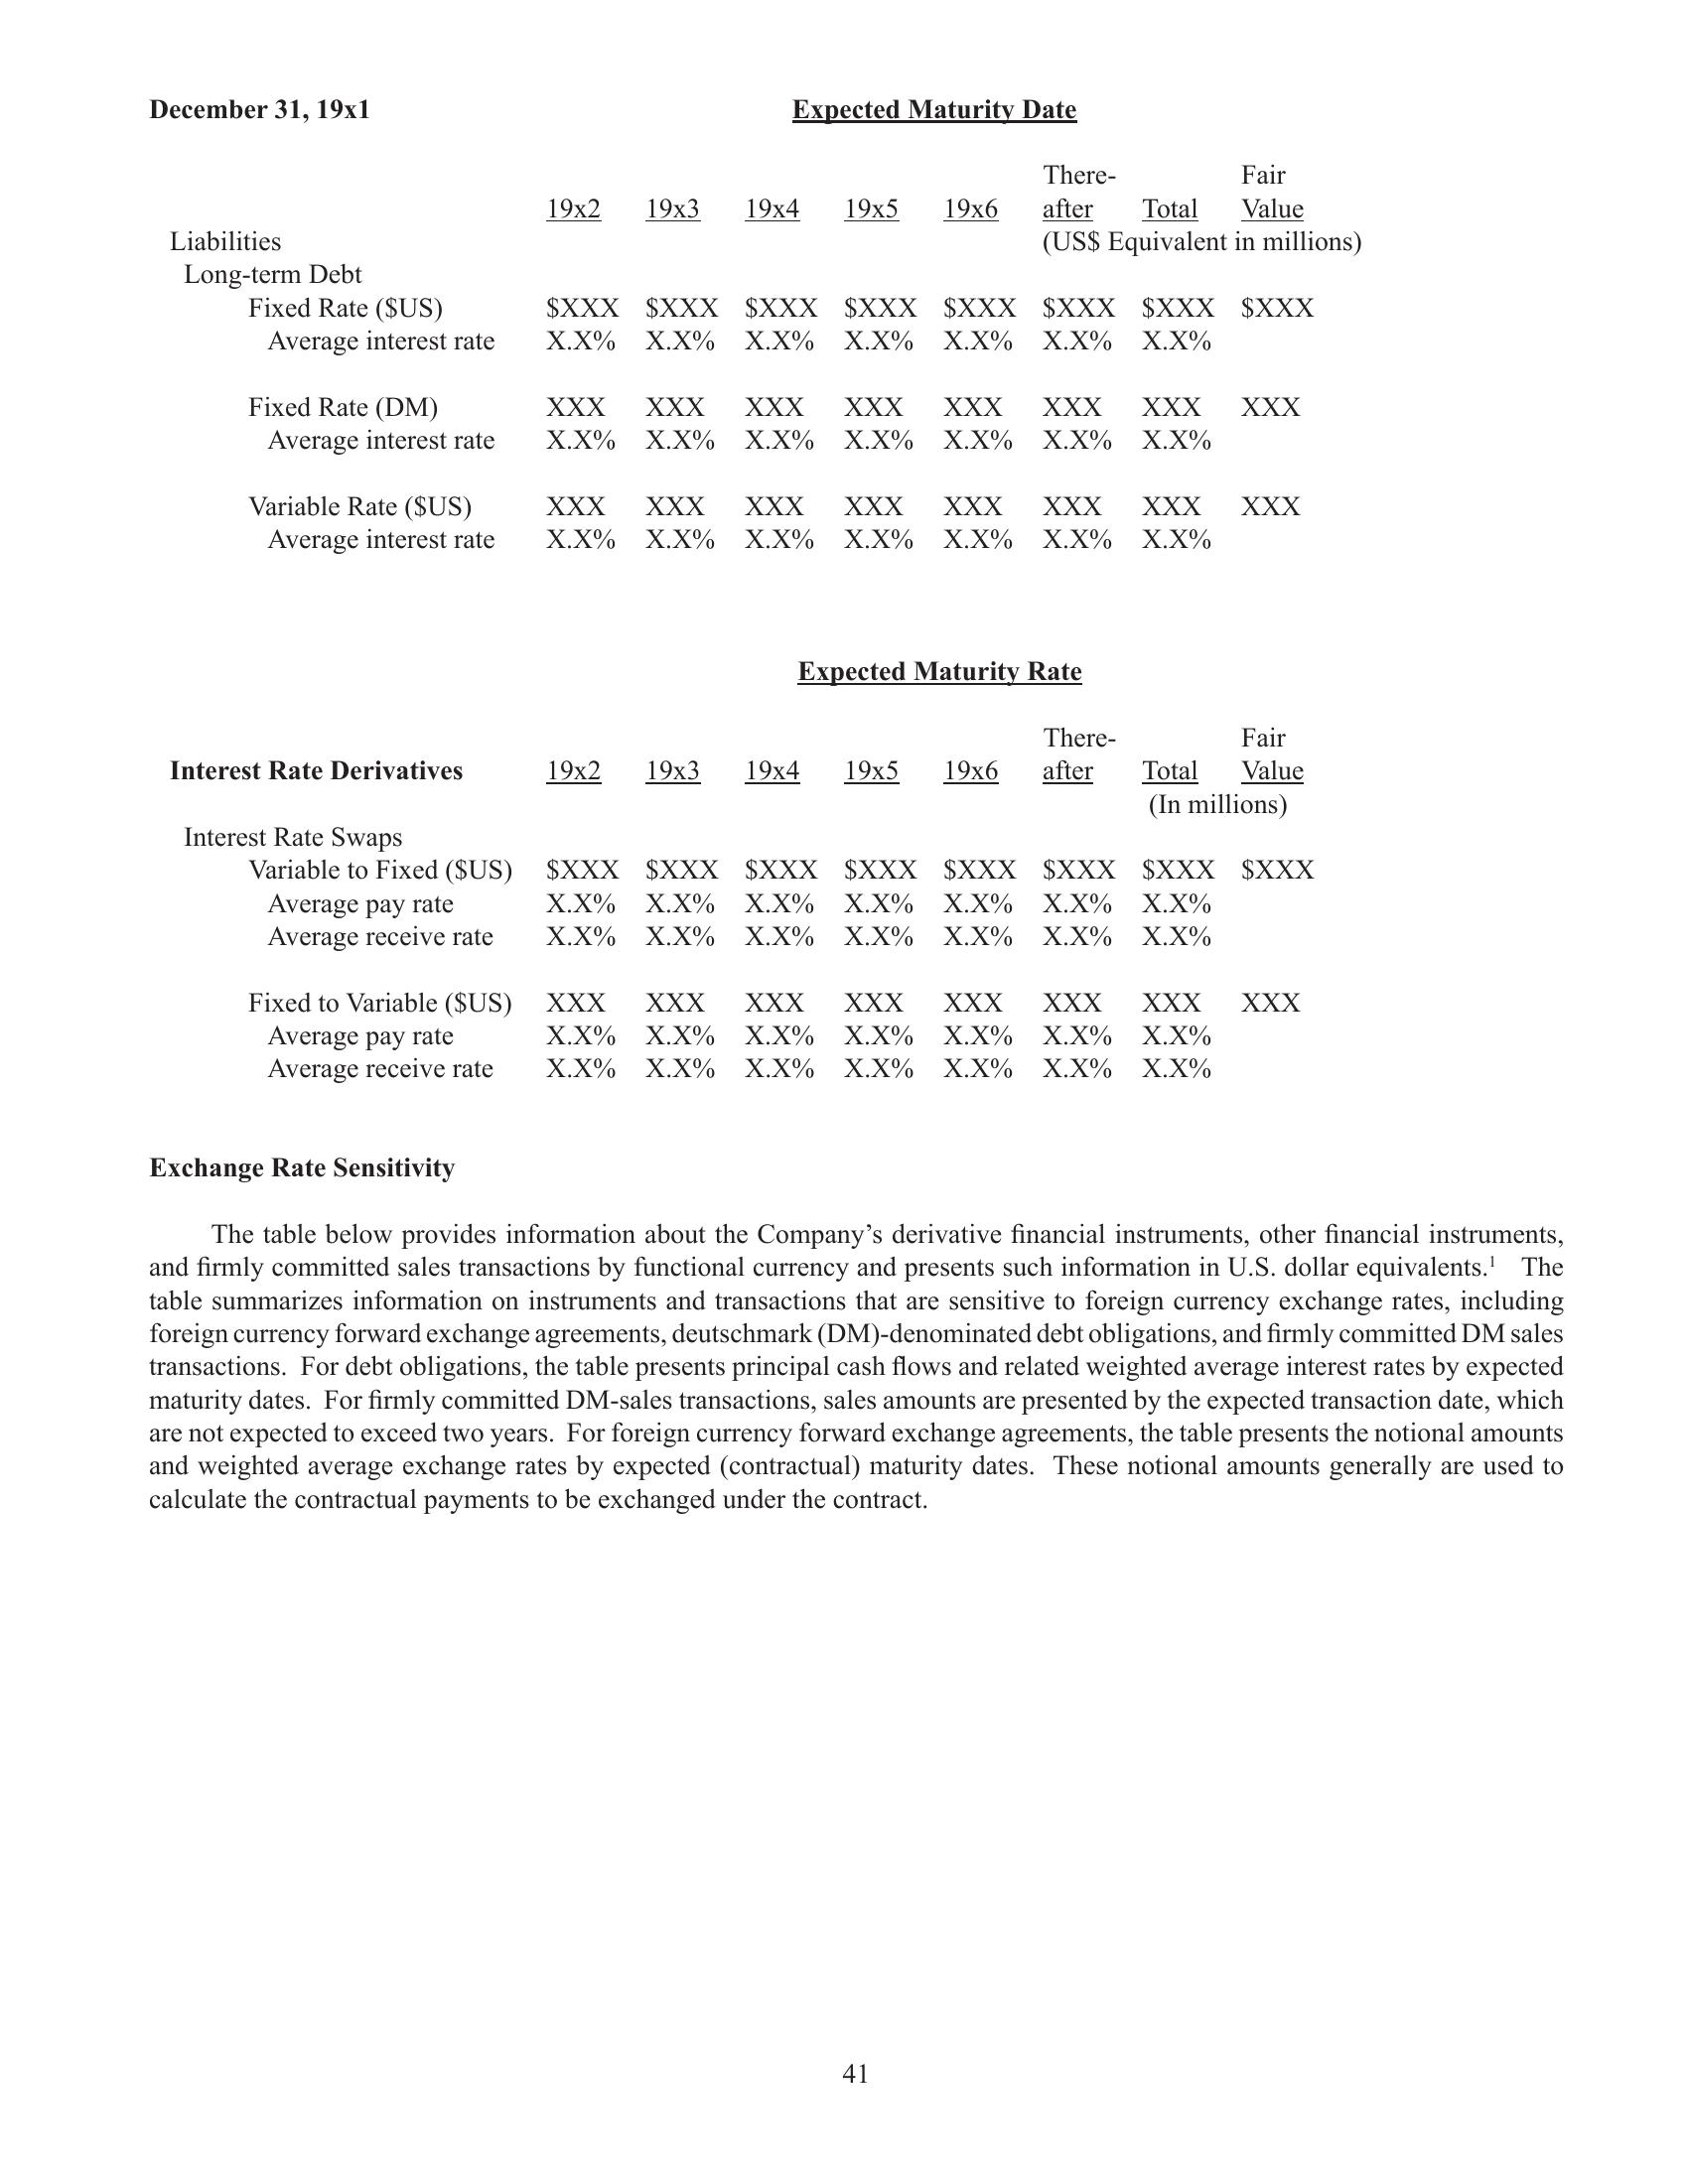table: (161, 152, 1376, 590), (160, 714, 1326, 1088)
